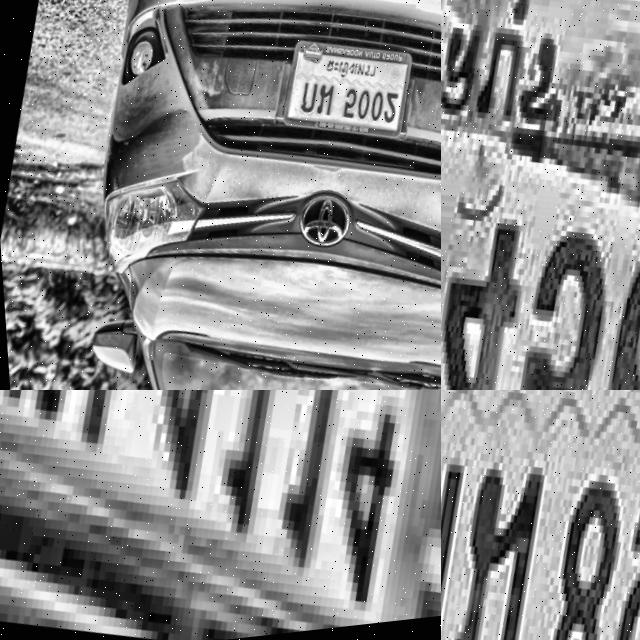license-plate: (0, 390, 441, 640), (441, 0, 640, 390), (441, 390, 640, 640), (271, 34, 418, 160)
